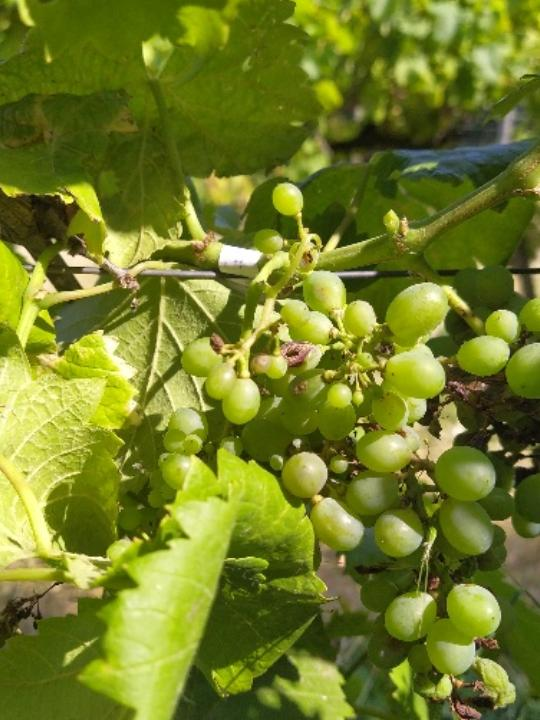grape: (175, 178, 540, 720)
